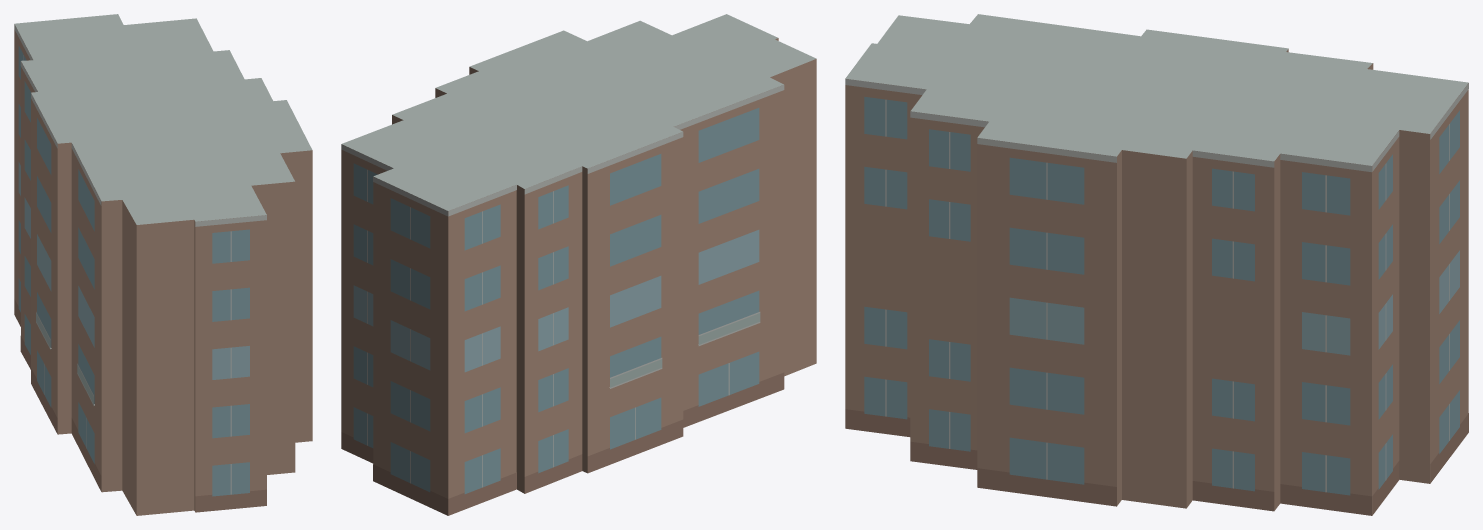
Rendered from survey-upis-33024032.glb.
The picture shows the model from 3 angles, left to right: view 1: azimuth 30°, elevation 25°; view 2: azimuth 150°, elevation 25°; view 3: azimuth 270°, elevation 25°; orthographic projection. The views are drawn at different scales.
Parts seen in each view (by area): view 1: survey-upis-33024032.tmp; view 2: survey-upis-33024032.tmp; view 3: survey-upis-33024032.tmp.
Part boxes in pixels (x1,y1,x2,y2): survey-upis-33024032.tmp: [14, 14, 312, 515]; survey-upis-33024032.tmp: [341, 14, 816, 515]; survey-upis-33024032.tmp: [845, 14, 1468, 515].
Bounding box in the file's own units: 12.63 × 13.55 × 21.9.
